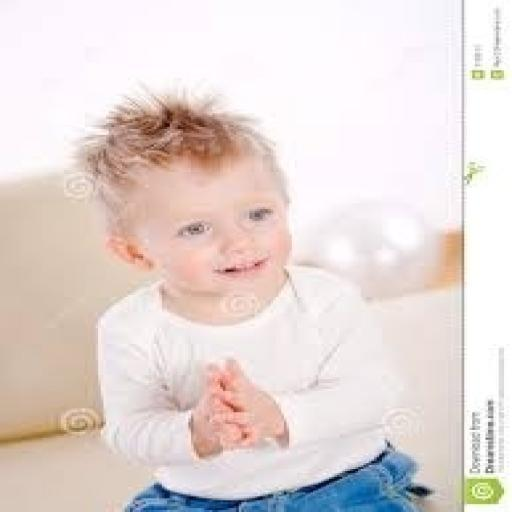clapping: (72, 86, 435, 510)
